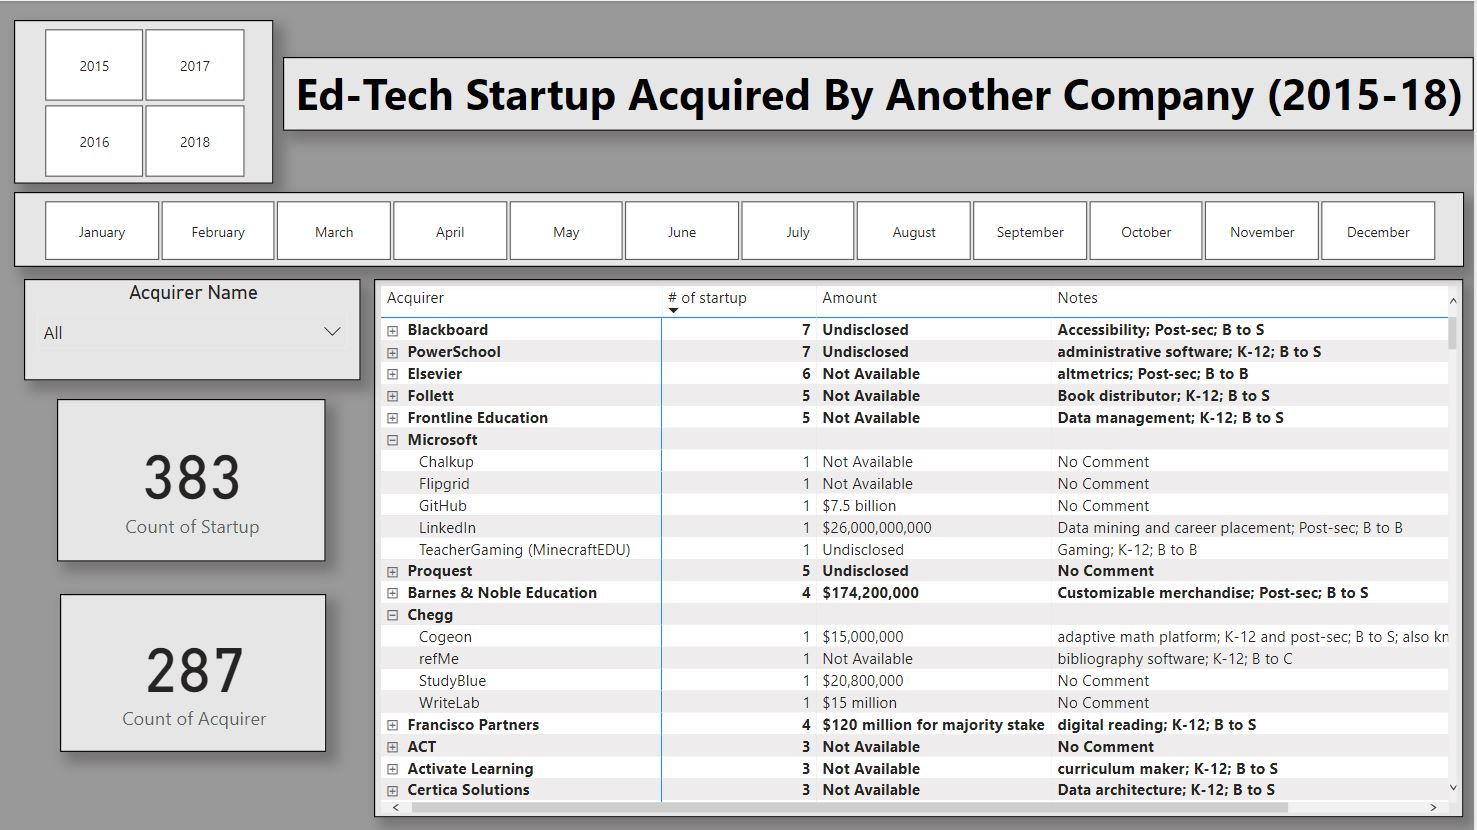

The dashboard page shown, as its layout file describes it:
{"tool":"powerbi","page":{"name":"Reports","canvas":[1280,720],"ordinal":0},"visuals":[{"type":"card","fields":{"Values":["Count(edtech2015_2018.Name)"]},"box":[51.6,345.3,233.4,141],"z":0},{"type":"card","fields":{"Values":["Count(edtech2015_2018.Acquirer)"]},"box":[53.5,514.5,231.5,137.1],"z":1},{"type":"pivotTable","fields":{"Rows":["edtech2015_2018.Acquirer","edtech2015_2018.Name"],"Values":["CountNonNull(edtech2015_2018.Index)","Min(edtech2015_2018.Amount)","Min(edtech2015_2018.Notes)"]},"box":[325.8,241.2,945.4,466.9],"z":2},{"type":"slicer","fields":{"Values":["date.Year"]},"box":[13.6,16.5,224.7,142],"z":5},{"type":"slicer","fields":{"Values":["date.Month Name"]},"box":[13.6,165.3,1257.6,65.2],"z":6},{"type":"slicer","title":"Acquirer Name","fields":{"Values":["edtech2015_2018.Acquirer"]},"box":[22.4,241.2,291.8,87.5],"z":7},{"type":"textbox","box":[247.1,48.6,1032.9,64.2],"z":8}]}

Visuals, with their boxes in screenshot pixels (x1, y1, x2, y2), scaled from the page's 1280x720 canvas onto the 1477x830 screenshot:
card - Count(edtech2015_2018.Name): Rect(60, 398, 329, 561)
card - Count(edtech2015_2018.Acquirer): Rect(62, 593, 329, 751)
pivotTable - edtech2015_2018.Acquirer x edtech2015_2018.Name: Rect(376, 278, 1467, 816)
slicer - date.Year: Rect(16, 19, 275, 183)
slicer - date.Month Name: Rect(16, 191, 1467, 266)
"Acquirer Name" slicer: Rect(26, 278, 363, 379)
textbox: Rect(285, 56, 1476, 130)
